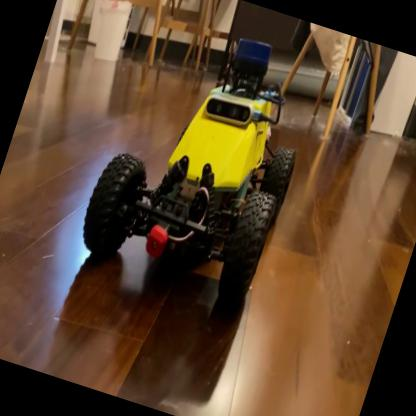mushr_car: (72, 0, 332, 312)
